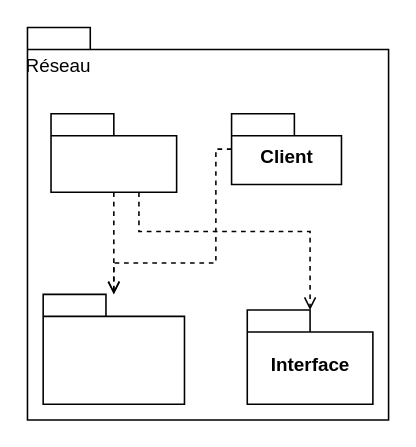
This 416x447 diagram has some shape labels left out. Each missing label, with the centre of its shape:
Data: the point at 113,348
Host: the point at 113,152
